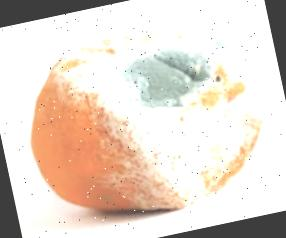Orange Rotten: (10, 8, 283, 238)
